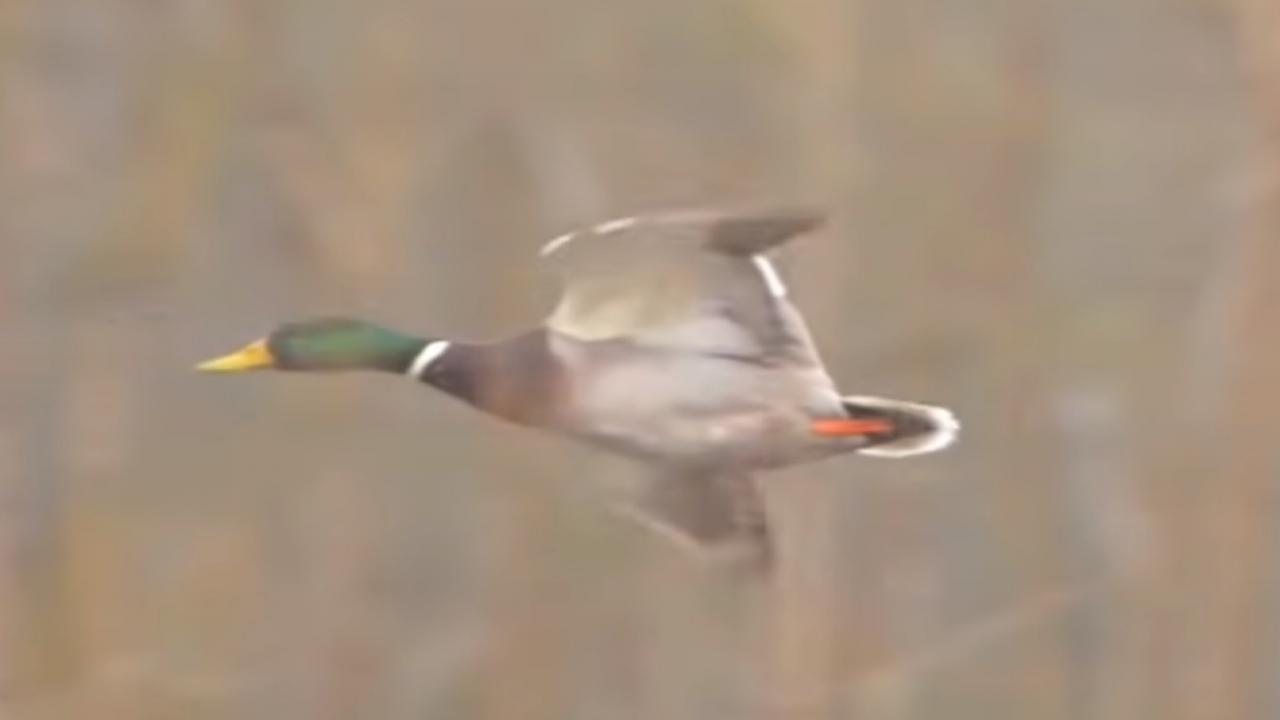Bird: (180, 195, 982, 606)
